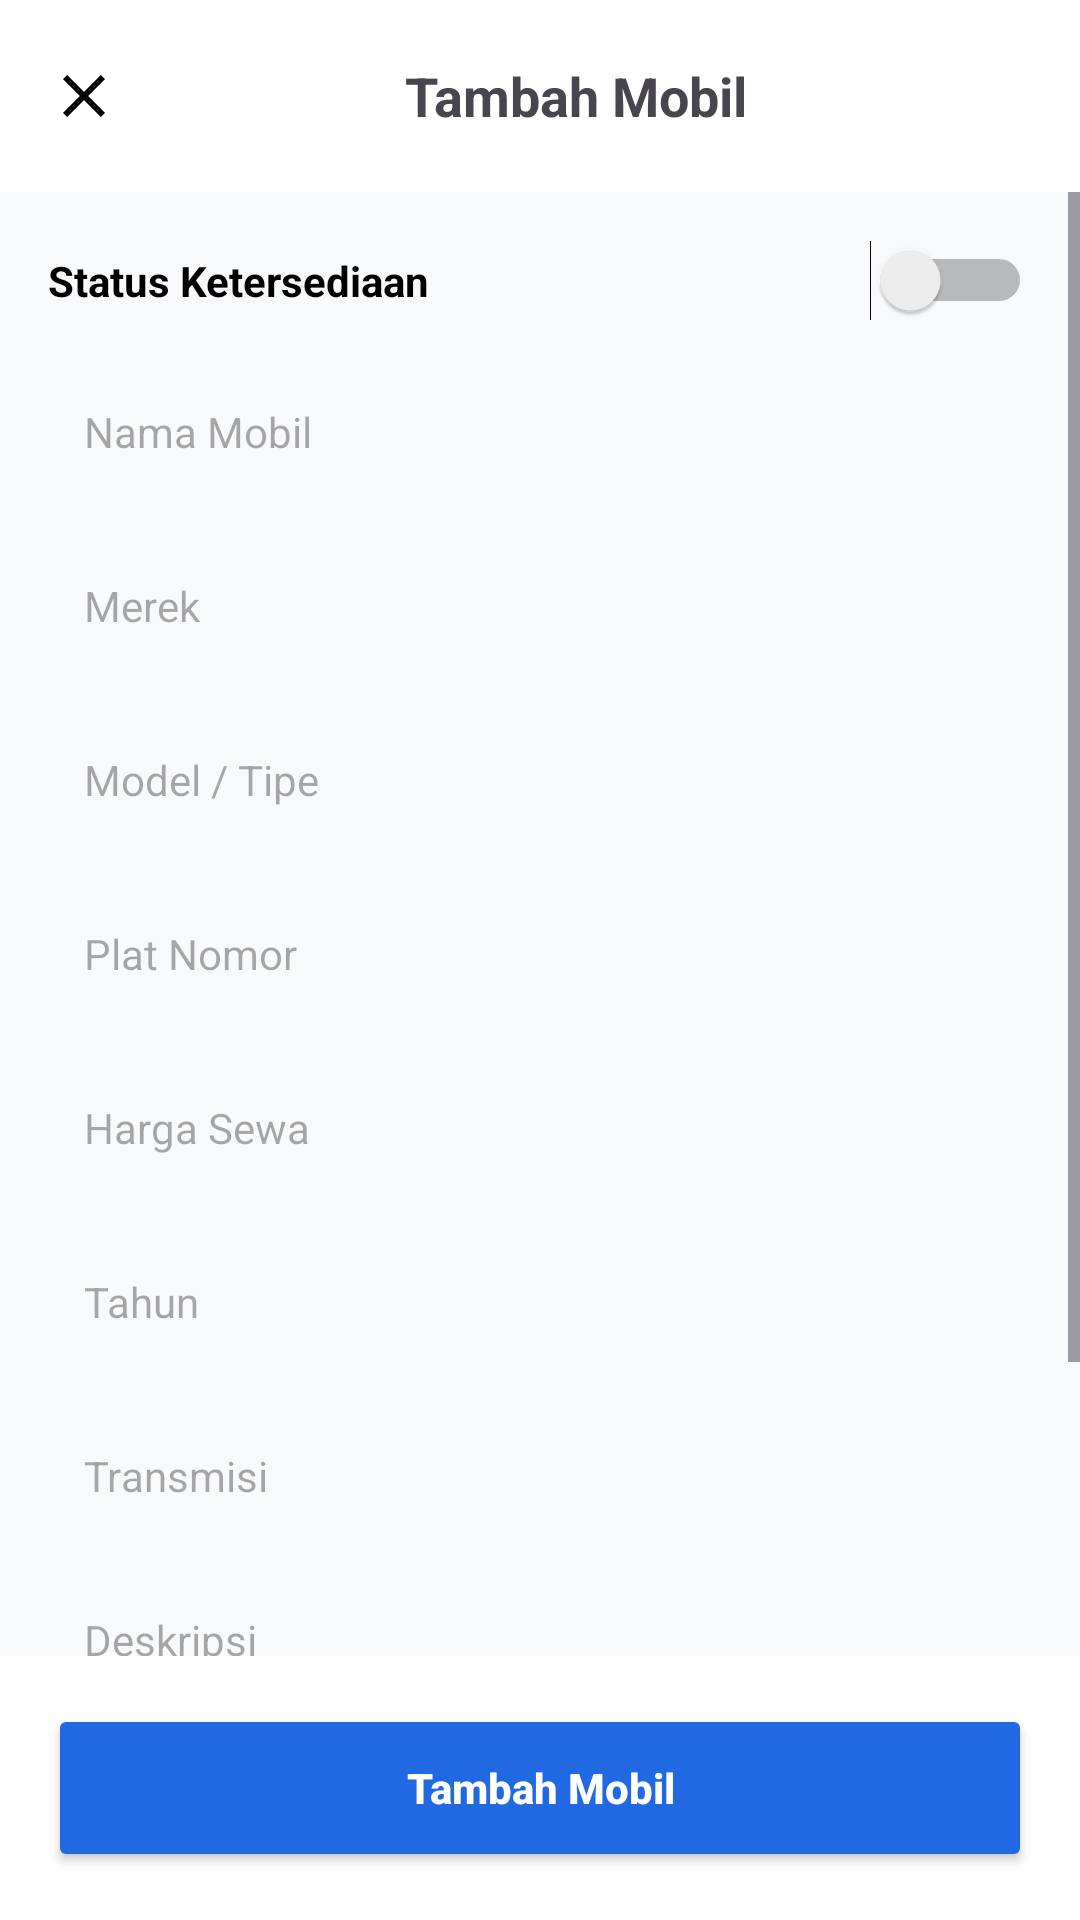

Where to tap for icons on this 1080px x 1920px app screen, as (x=x, y=y):
close: (x=84, y=96)
